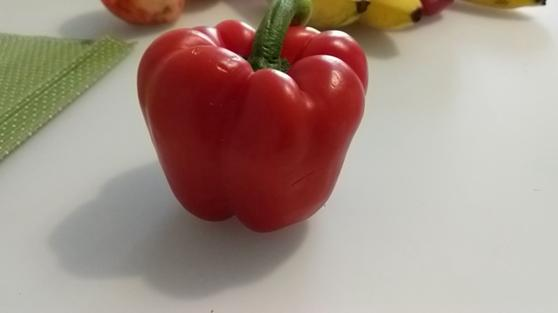pepper: (137, 1, 369, 234)
